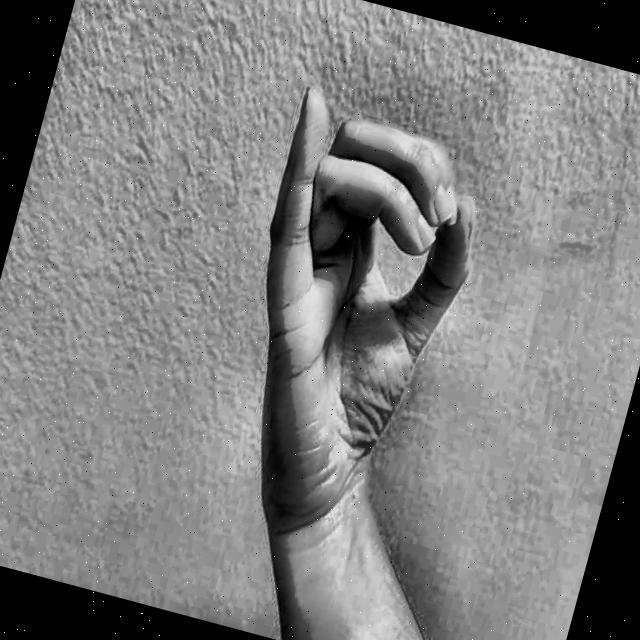Ou: (168, 41, 528, 558)
